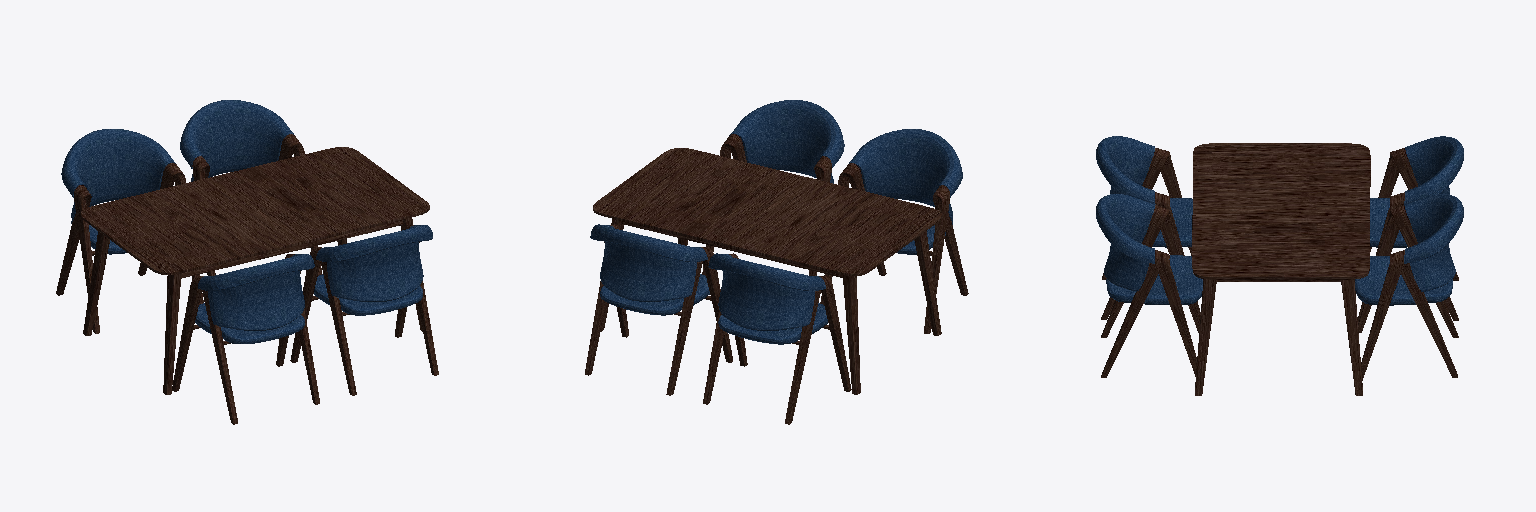
3 views of the same model, side by side, from view 1: azimuth 30°, elevation 25°; view 2: azimuth 150°, elevation 25°; view 3: azimuth 270°, elevation 25° (orthographic).
Visible parts, largest first — view 1: polySurface92_Mesh.004; view 2: polySurface92_Mesh.004; view 3: polySurface92_Mesh.004.
Boxes of the visible parts, x1,y1,x2,y2 form: polySurface92_Mesh.004: [56, 100, 438, 424]; polySurface92_Mesh.004: [585, 100, 968, 424]; polySurface92_Mesh.004: [1096, 136, 1463, 395].
Bounding box in the file's own units: 1.79 × 0.9537 × 2.08.
2 materials, 2 textured.